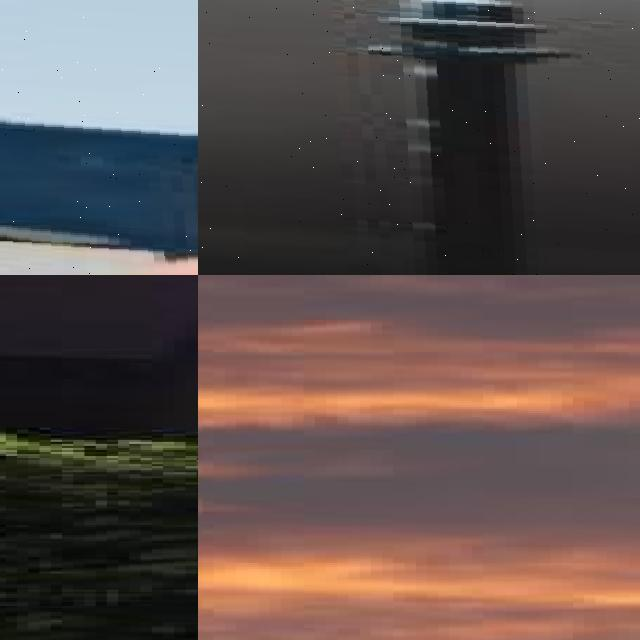street light: (198, 0, 640, 275), (0, 0, 198, 275)
